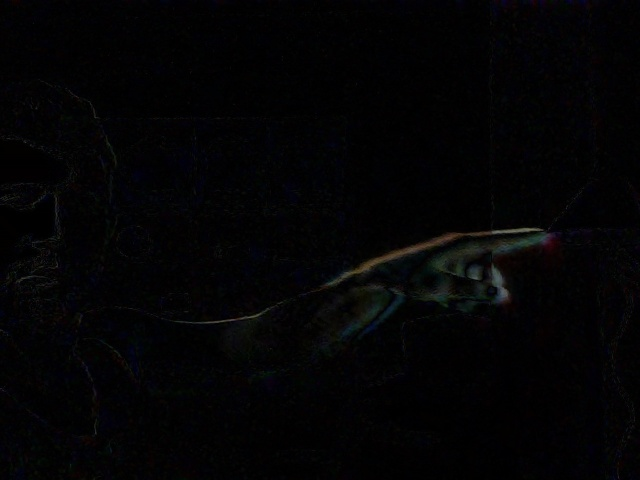hand_po: (356, 212, 569, 311)
